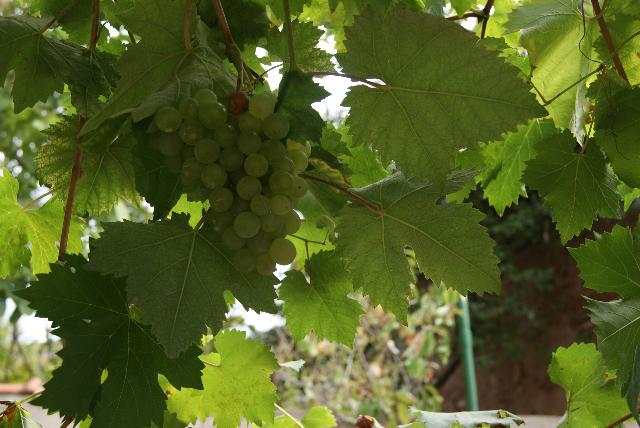grapes: (149, 89, 311, 276)
